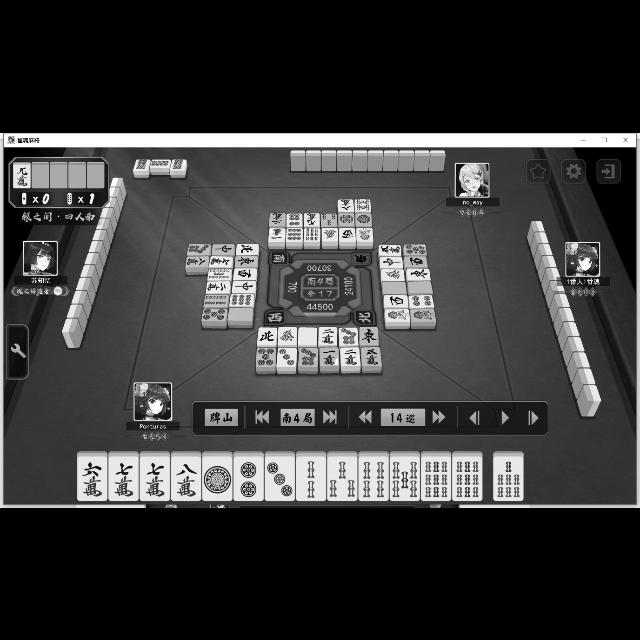1m: (318, 346, 340, 366), (268, 226, 284, 240)
1p: (202, 456, 234, 500), (355, 212, 373, 226), (338, 212, 354, 226)
1s: (410, 308, 436, 322), (385, 308, 411, 320), (356, 228, 374, 242)
2m: (318, 324, 338, 346), (340, 347, 360, 367), (204, 280, 230, 292), (268, 211, 286, 227)
2p: (234, 456, 264, 500)
2s: (297, 456, 327, 499)
3m: (362, 346, 382, 364)
3p: (265, 456, 295, 499), (276, 346, 296, 366)
3s: (327, 458, 357, 500), (320, 212, 338, 225)
4p: (410, 294, 434, 306)
4s: (360, 456, 388, 500), (202, 293, 228, 307)
5m: (380, 243, 402, 255)
5p: (256, 346, 276, 366), (200, 307, 228, 321), (403, 243, 427, 254)
5s: (389, 456, 418, 500), (208, 268, 230, 280)
6m: (78, 458, 108, 500)
6p: (288, 212, 302, 226)
7m: (109, 457, 138, 501), (140, 456, 168, 500), (210, 256, 234, 266)
7p: (186, 242, 212, 256), (339, 327, 359, 345), (300, 348, 318, 367)
7s: (492, 456, 524, 500)
8m: (171, 458, 201, 500), (186, 255, 210, 267), (338, 198, 354, 212)
8p: (133, 157, 147, 170), (171, 157, 185, 170), (150, 158, 170, 166)
8s: (354, 197, 372, 211)
9m: (13, 162, 31, 188), (304, 212, 320, 226)
9p: (230, 292, 254, 306), (286, 226, 302, 242)
9s: (421, 457, 451, 501), (452, 456, 482, 500), (304, 228, 320, 242)
chun: (231, 280, 257, 292), (379, 256, 403, 268), (211, 242, 235, 254)
haku: (297, 326, 317, 346), (381, 280, 407, 294), (407, 280, 433, 294), (228, 306, 254, 320)
hatsu: (380, 268, 406, 282), (278, 326, 298, 344), (323, 226, 339, 242)
pe: (256, 326, 278, 346), (235, 243, 259, 255)
sha: (404, 255, 430, 267), (383, 294, 409, 306), (234, 268, 256, 278), (339, 228, 355, 240)
tou: (359, 326, 379, 346), (406, 266, 430, 280), (234, 254, 258, 266)
